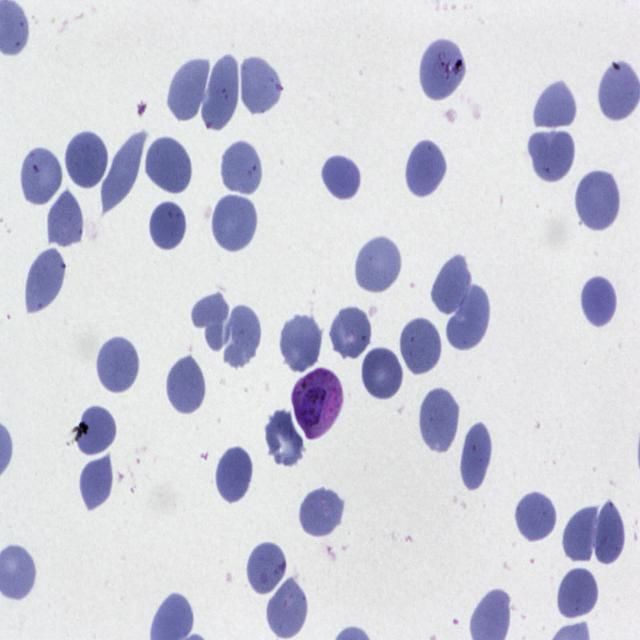gametocyte: (288, 367, 344, 439)
red blood cell: (100, 131, 148, 215), (200, 50, 241, 134), (418, 36, 468, 104), (574, 166, 622, 235), (445, 282, 490, 355), (167, 53, 212, 125), (418, 383, 461, 457), (210, 192, 260, 255), (353, 234, 403, 296), (144, 134, 194, 196), (238, 53, 284, 118), (18, 144, 64, 209), (95, 333, 141, 397), (277, 311, 323, 375), (220, 301, 262, 371), (64, 129, 110, 192), (528, 126, 577, 185), (24, 248, 66, 316), (165, 352, 208, 418), (398, 315, 443, 378), (404, 137, 448, 201), (266, 576, 310, 640), (458, 416, 494, 494), (562, 502, 603, 568), (298, 484, 346, 540), (220, 138, 264, 199), (360, 345, 405, 403), (264, 408, 306, 470), (531, 78, 579, 132), (245, 540, 289, 597), (215, 443, 254, 507), (430, 254, 470, 316), (514, 489, 559, 544), (74, 402, 118, 458), (556, 567, 600, 622), (46, 189, 84, 249), (329, 307, 372, 360), (593, 502, 627, 568), (80, 452, 116, 513), (578, 274, 618, 328), (320, 152, 362, 202), (150, 198, 188, 249)
